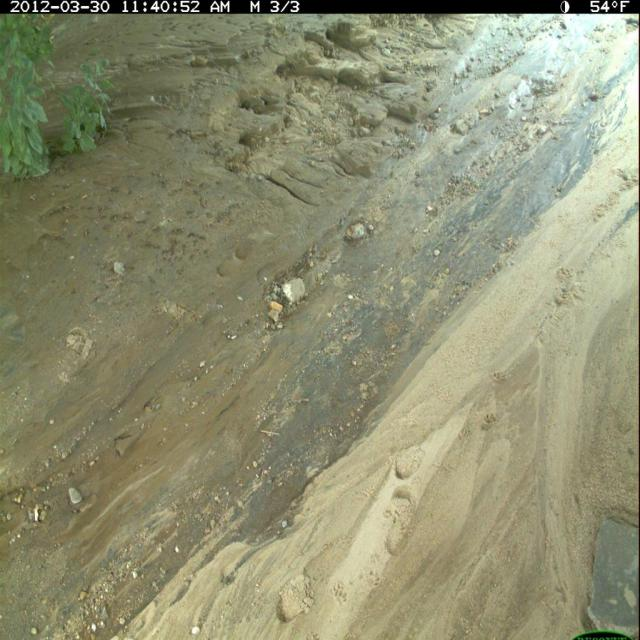bobcat: (1, 8, 638, 634)
